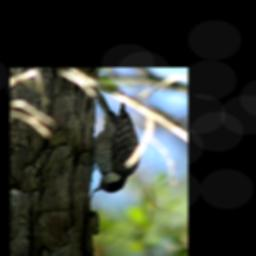Woodpecker: (90, 87, 142, 194)
